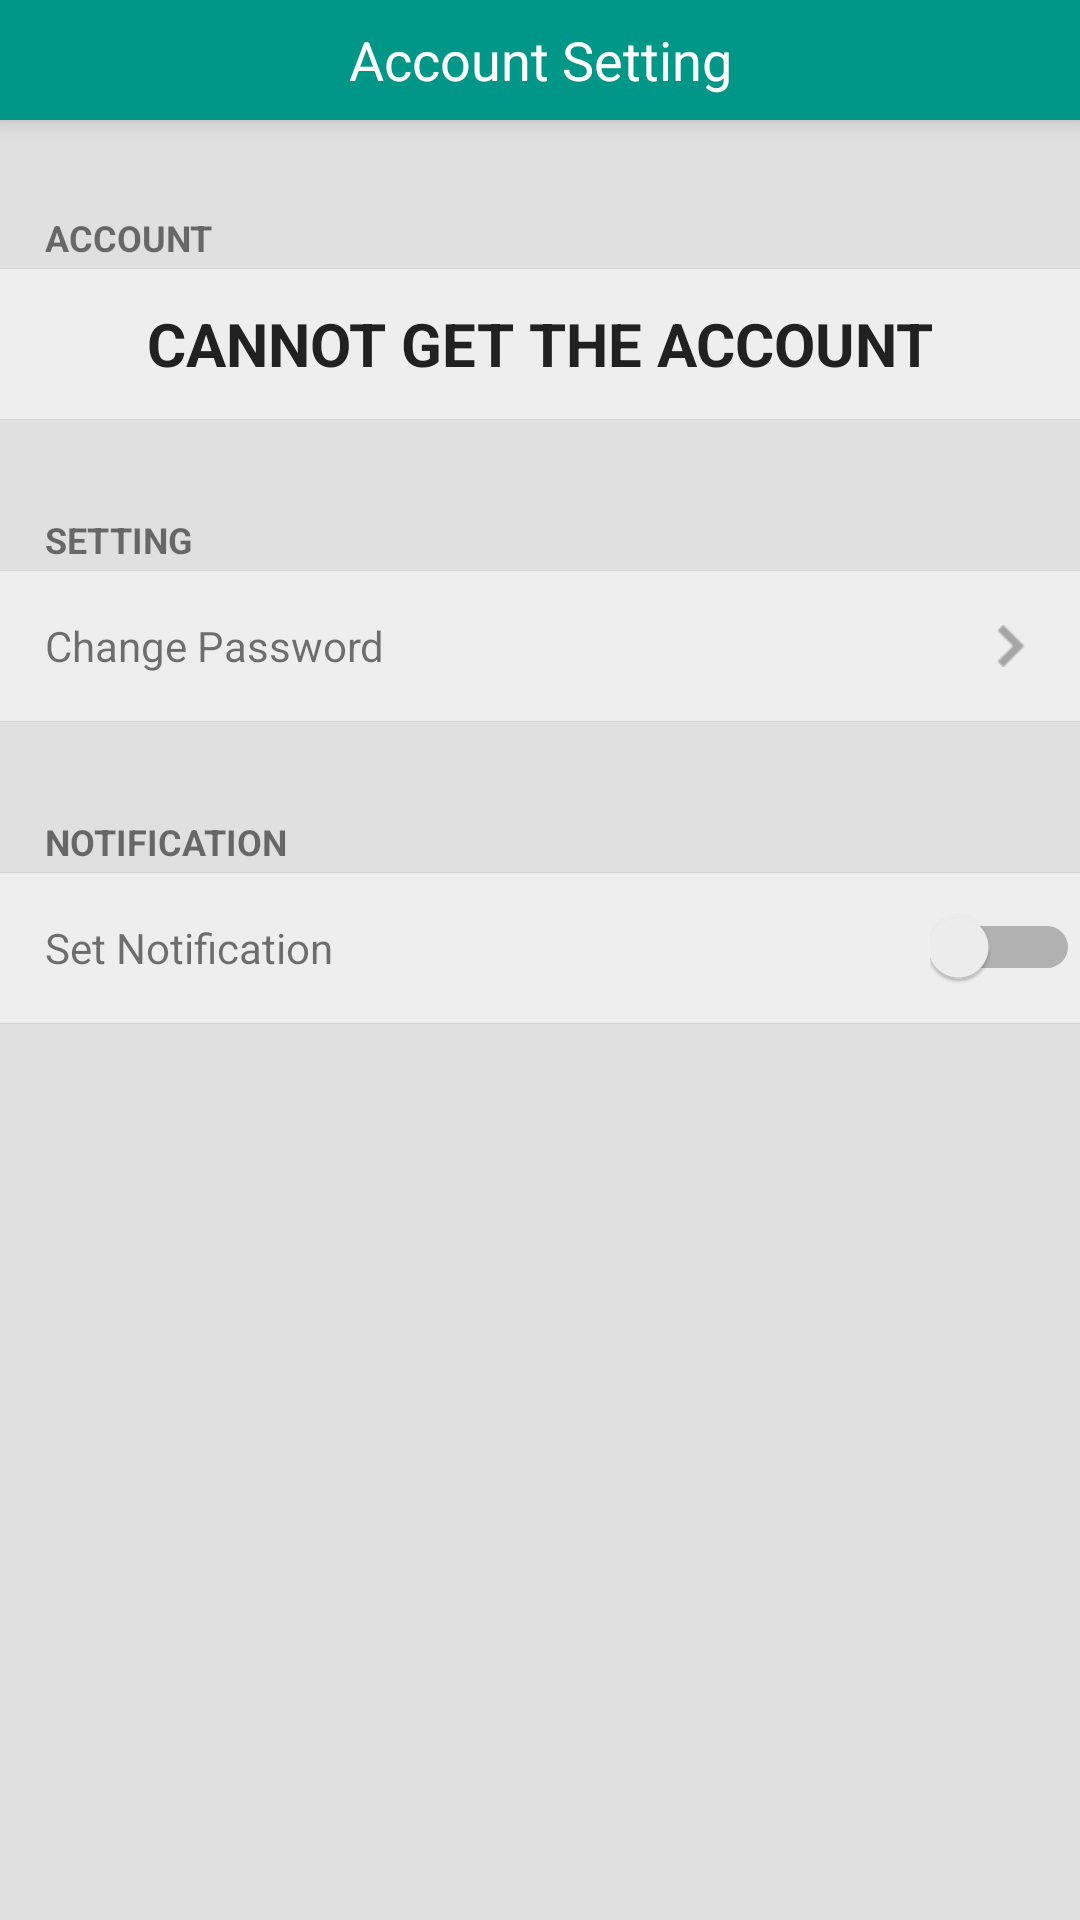

Named icons in this screenshot (1080w x 1920h) and their bounding boxes, [x1=x1, y1=y1, x2=x2, y2=y2]:
arrow right: [x1=998, y1=625, x2=1024, y2=667]
